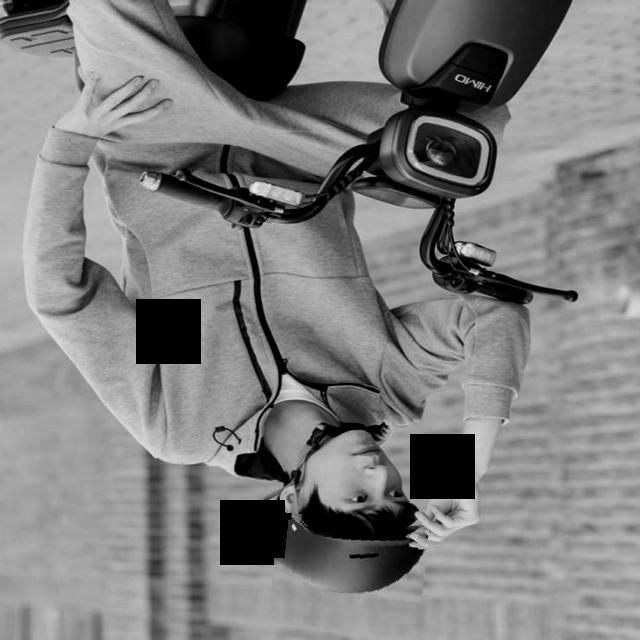helmet: (273, 515, 428, 599)
